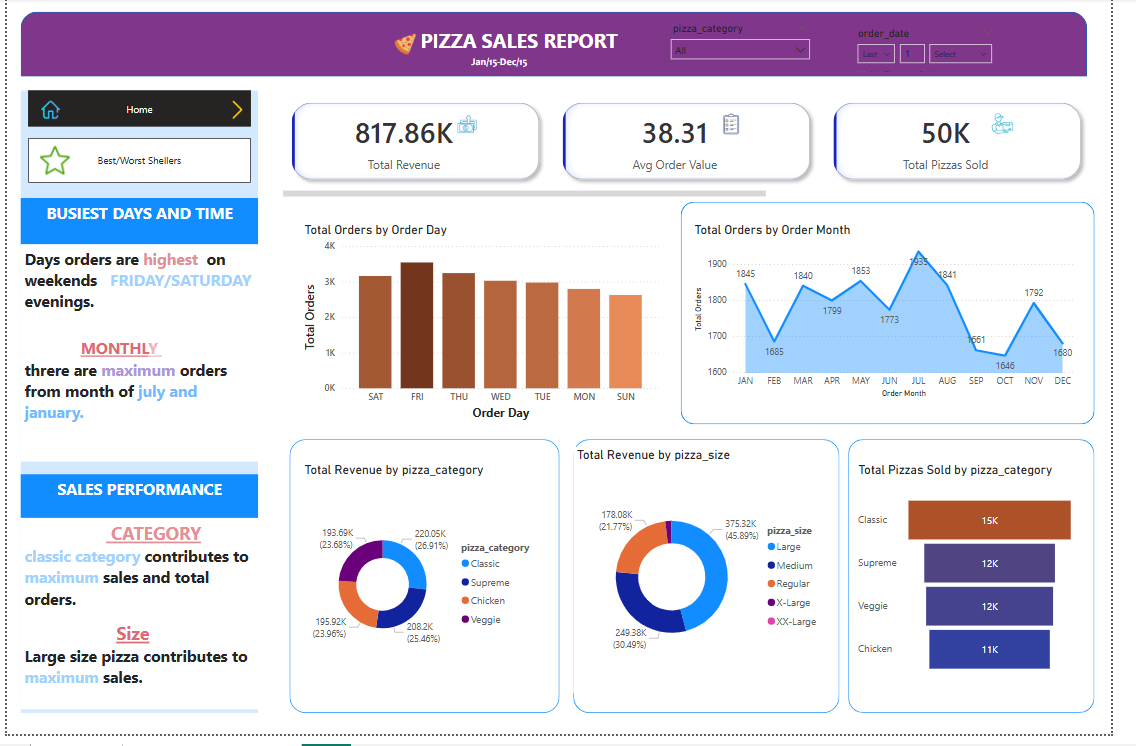

Layout of this report page (visuals, bound fields, positions):
{"tool":"powerbi","page":{"name":"Home","canvas":[1500,1000],"ordinal":0},"visuals":[{"type":"cardVisual","fields":{"Data":["pizza_sales.Total Revenue","pizza_sales.Avg Order Value","pizza_sales.Total Pizzas Sold","pizza_sales.Total Orders","pizza_sales.Avg Pizzas Per Order"]},"box":[370.2,125.7,1107.3,151.2],"z":0},{"type":"shape","box":[18.7,18.7,1448.7,88.3],"z":1000},{"type":"textbox","box":[546.6,34.2,297.1,50.1],"z":2000},{"type":"textbox","box":[594.3,72.1,149.2,29.3],"z":3000},{"type":"image","box":[522.1,40.4,39.1,44],"z":4000},{"type":"shape","box":[383.8,599.5,366.8,371.9],"z":5000},{"type":"columnChart","fields":{"Category":["pizza_sales.Order Day"],"Y":["pizza_sales.Total Orders"]},"box":[399.1,304,492.5,275.1],"z":6000},{"type":"shape","box":[915.4,276.8,562.2,302.3],"z":7000},{"type":"areaChart","fields":{"Y":["pizza_sales.Total Orders"],"Category":["pizza_sales.Order Month"]},"box":[929,304,526.5,244.6],"z":8000},{"type":"shape","box":[769.4,599.5,361.8,371.9],"z":9000},{"type":"shape","box":[1143,599.5,334.6,371.9],"z":10000},{"type":"donutChart","fields":{"Category":["pizza_sales.pizza_category"],"Y":["pizza_sales.Total Revenue"]},"box":[399.1,630.1,322.7,314.2],"z":11000},{"type":"donutChart","fields":{"Y":["pizza_sales.Total Revenue"],"Category":["pizza_sales.pizza_size"]},"box":[769.4,609.7,348.2,334.6],"z":12000},{"type":"funnel","fields":{"Category":["pizza_sales.pizza_category"],"Y":["pizza_sales.Total Pizzas Sold"]},"box":[1151.5,630.1,304,314.2],"z":13000},{"type":"textbox","box":[18.7,125.7,322.7,845.8],"z":14000},{"type":"textbox","box":[18.7,271.7,322.7,62.8],"z":15000},{"type":"textbox","box":[18.7,334.6,322.7,295.5],"z":16000},{"type":"textbox","box":[18.7,647.1,322.7,59.4],"z":17000},{"type":"textbox","box":[18.7,706.5,322.7,259.9],"z":18000},{"type":"slicer","fields":{"Values":["pizza_sales.pizza_category"]},"box":[891.6,27.2,208.9,73],"z":19000},{"type":"slicer","fields":{"Values":["pizza_sales.order_date"]},"box":[1143,34,208.9,66.2],"z":20000},{"type":"pageNavigator","box":[28.9,125.7,302.3,49.3],"z":21000},{"type":"pageNavigator","box":[28.9,190.2,302.3,61.1],"z":22000},{"type":"image","box":[268.3,134.2,90,35.7],"z":23000},{"type":"image","box":[28.9,134.2,61.1,35.7],"z":24000},{"type":"image","box":[0,195.3,130.8,51],"z":25000}]}

Visuals, with their boxes in screenshot pixels (x1, y1, x2, y2), scaled from the page's 1500x1000 canvas onto the 1136x746 screenshot:
cardVisual - pizza_sales.Total Revenue x pizza_sales.Avg Order Value: {"x1": 280, "y1": 94, "x2": 1119, "y2": 207}
shape: {"x1": 14, "y1": 14, "x2": 1111, "y2": 80}
textbox: {"x1": 414, "y1": 26, "x2": 639, "y2": 63}
textbox: {"x1": 450, "y1": 54, "x2": 563, "y2": 76}
image: {"x1": 395, "y1": 30, "x2": 425, "y2": 63}
shape: {"x1": 291, "y1": 447, "x2": 568, "y2": 725}
columnChart - pizza_sales.Order Day x pizza_sales.Total Orders: {"x1": 302, "y1": 227, "x2": 675, "y2": 432}
shape: {"x1": 693, "y1": 206, "x2": 1119, "y2": 432}
areaChart - pizza_sales.Total Orders x pizza_sales.Order Month: {"x1": 704, "y1": 227, "x2": 1102, "y2": 409}
shape: {"x1": 583, "y1": 447, "x2": 857, "y2": 725}
shape: {"x1": 866, "y1": 447, "x2": 1119, "y2": 725}
donutChart - pizza_sales.pizza_category x pizza_sales.Total Revenue: {"x1": 302, "y1": 470, "x2": 547, "y2": 704}
donutChart - pizza_sales.Total Revenue x pizza_sales.pizza_size: {"x1": 583, "y1": 455, "x2": 846, "y2": 704}
funnel - pizza_sales.pizza_category x pizza_sales.Total Pizzas Sold: {"x1": 872, "y1": 470, "x2": 1102, "y2": 704}
textbox: {"x1": 14, "y1": 94, "x2": 259, "y2": 725}
textbox: {"x1": 14, "y1": 203, "x2": 259, "y2": 250}
textbox: {"x1": 14, "y1": 250, "x2": 259, "y2": 470}
textbox: {"x1": 14, "y1": 483, "x2": 259, "y2": 527}
textbox: {"x1": 14, "y1": 527, "x2": 259, "y2": 721}
slicer - pizza_sales.pizza_category: {"x1": 675, "y1": 20, "x2": 833, "y2": 75}
slicer - pizza_sales.order_date: {"x1": 866, "y1": 25, "x2": 1024, "y2": 75}
pageNavigator: {"x1": 22, "y1": 94, "x2": 251, "y2": 131}
pageNavigator: {"x1": 22, "y1": 142, "x2": 251, "y2": 187}
image: {"x1": 203, "y1": 100, "x2": 271, "y2": 127}
image: {"x1": 22, "y1": 100, "x2": 68, "y2": 127}
image: {"x1": 0, "y1": 146, "x2": 99, "y2": 184}
